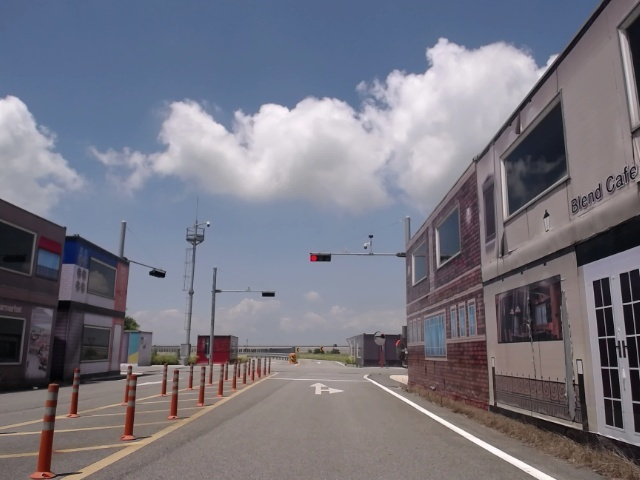red_3: (309, 254, 332, 262)
